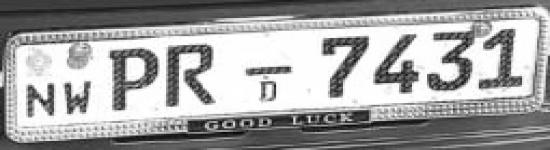-: (238, 63, 296, 78)
1: (480, 28, 523, 89)
3: (428, 32, 475, 91)
4: (374, 34, 420, 94)
7: (322, 37, 368, 97)
N: (23, 79, 57, 119)
P: (101, 47, 158, 117)
R: (162, 40, 221, 110)
W: (63, 76, 94, 118)
